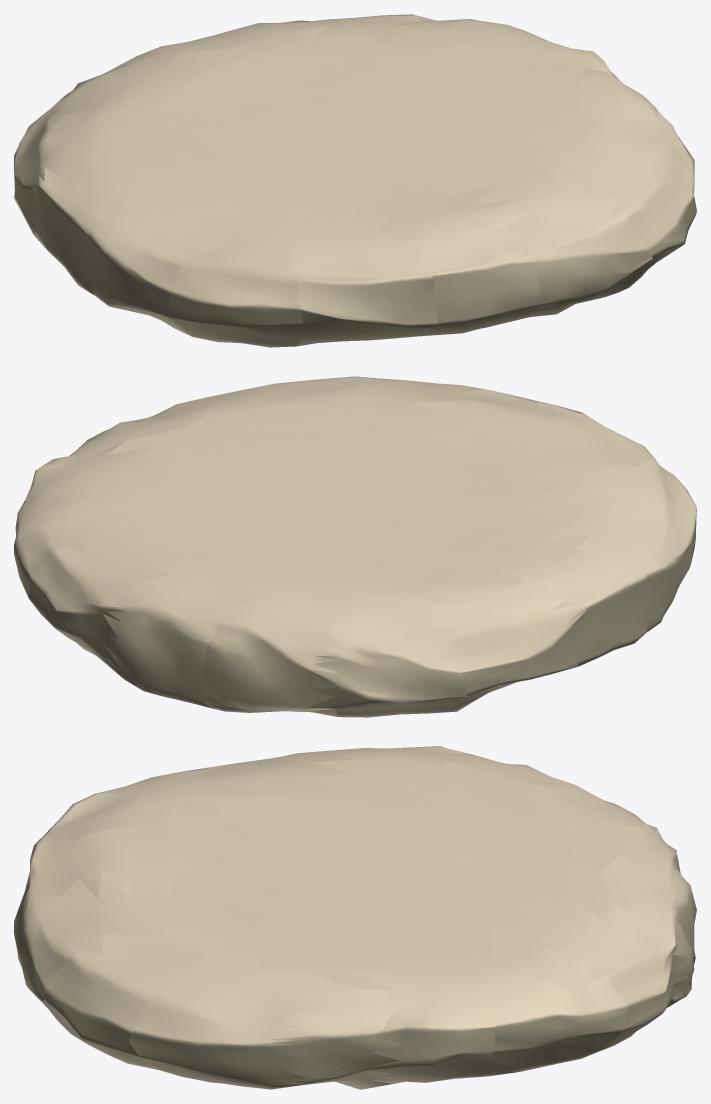
File: path_stone_mossy.glb
3 views of the same model, one above another, from view 1: azimuth 30°, elevation 25°; view 2: azimuth 150°, elevation 25°; view 3: azimuth 270°, elevation 25° (orthographic). The views are drawn at different scales.
Visible parts, largest first — view 1: mesh_node; view 2: mesh_node; view 3: mesh_node.
Boxes of the visible parts, left/top/right/bottom form: mesh_node: left=14, top=14, right=696, bottom=347; mesh_node: left=14, top=376, right=696, bottom=717; mesh_node: left=14, top=746, right=696, bottom=1089.
Bounding box in the file's own units: 0.9941 × 0.1865 × 1.
1 material, 1 textured.
